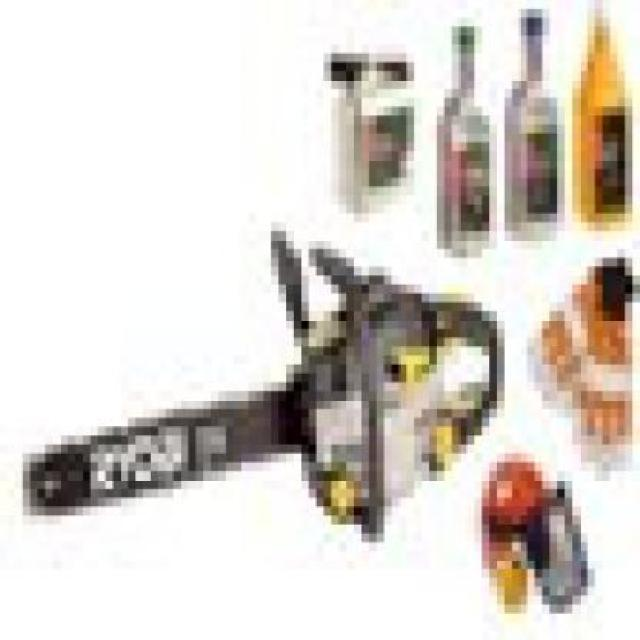Chainsaw: (20, 220, 505, 546)
